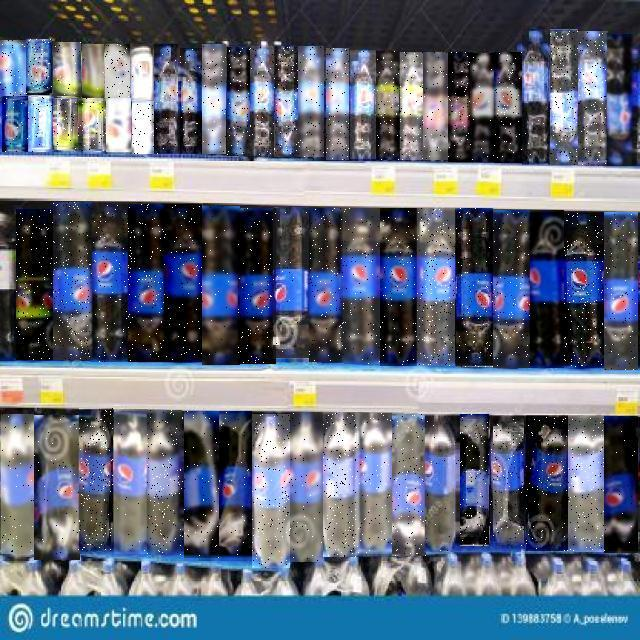Drinks: (34, 415, 80, 560), (90, 204, 130, 362), (380, 208, 420, 366), (564, 212, 604, 368), (53, 202, 92, 360), (493, 210, 532, 368), (202, 206, 240, 365), (128, 204, 166, 362), (164, 204, 202, 362), (417, 208, 455, 366), (238, 208, 276, 364), (456, 208, 493, 367), (252, 414, 290, 568), (526, 415, 568, 551), (273, 208, 310, 362), (345, 208, 381, 364), (16, 209, 53, 360), (310, 209, 346, 363), (531, 210, 565, 368), (604, 212, 638, 370), (148, 410, 184, 555), (324, 412, 360, 557), (184, 412, 219, 560), (290, 412, 324, 562), (357, 414, 392, 556), (114, 409, 148, 554), (79, 408, 113, 552), (568, 416, 604, 552), (219, 412, 252, 560), (392, 415, 426, 557), (426, 414, 460, 552), (605, 416, 639, 553), (1, 414, 34, 554), (490, 416, 524, 546), (578, 32, 608, 166), (460, 414, 489, 546), (550, 29, 578, 165), (608, 34, 636, 166), (523, 29, 549, 165), (495, 52, 523, 163), (298, 46, 324, 157), (350, 50, 376, 159), (470, 53, 496, 162), (250, 46, 275, 156), (423, 52, 448, 160), (274, 46, 298, 157), (154, 44, 178, 154), (202, 44, 226, 154), (448, 52, 472, 162), (326, 48, 349, 160), (227, 47, 250, 156), (376, 51, 399, 160), (400, 52, 423, 160), (180, 49, 202, 155), (53, 42, 81, 96), (0, 41, 26, 97), (26, 39, 52, 95), (3, 97, 29, 153), (54, 98, 82, 150), (105, 45, 130, 99), (106, 99, 131, 153), (28, 96, 52, 152), (82, 99, 106, 153), (130, 45, 153, 101), (82, 44, 104, 98), (132, 101, 154, 154)
